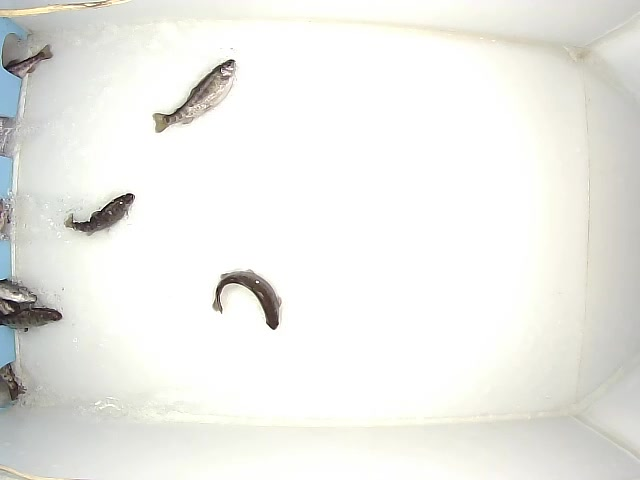fish: (150, 52, 238, 134), (209, 268, 286, 332), (61, 189, 141, 237)
